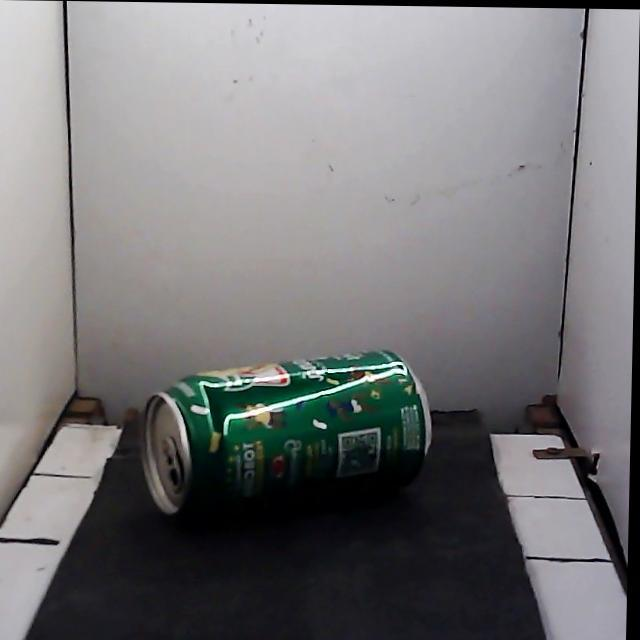metal: (141, 351, 431, 514)
